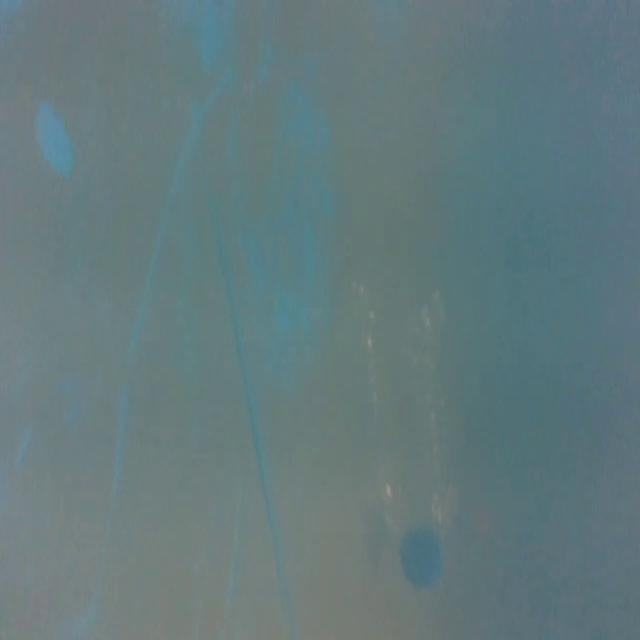plastic bottle: (347, 242, 458, 591)
